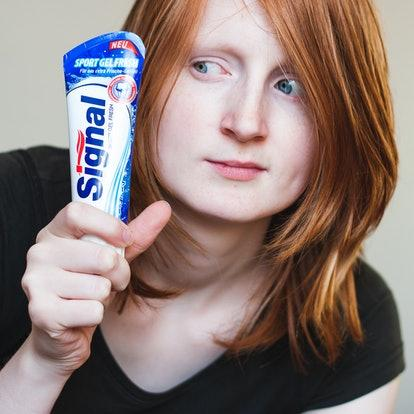toothpaste: (52, 36, 159, 233)
